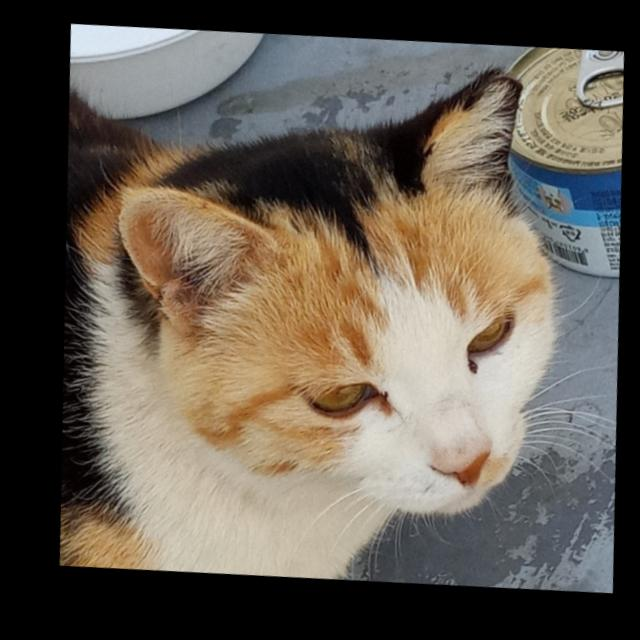animals: (69, 27, 616, 558)
